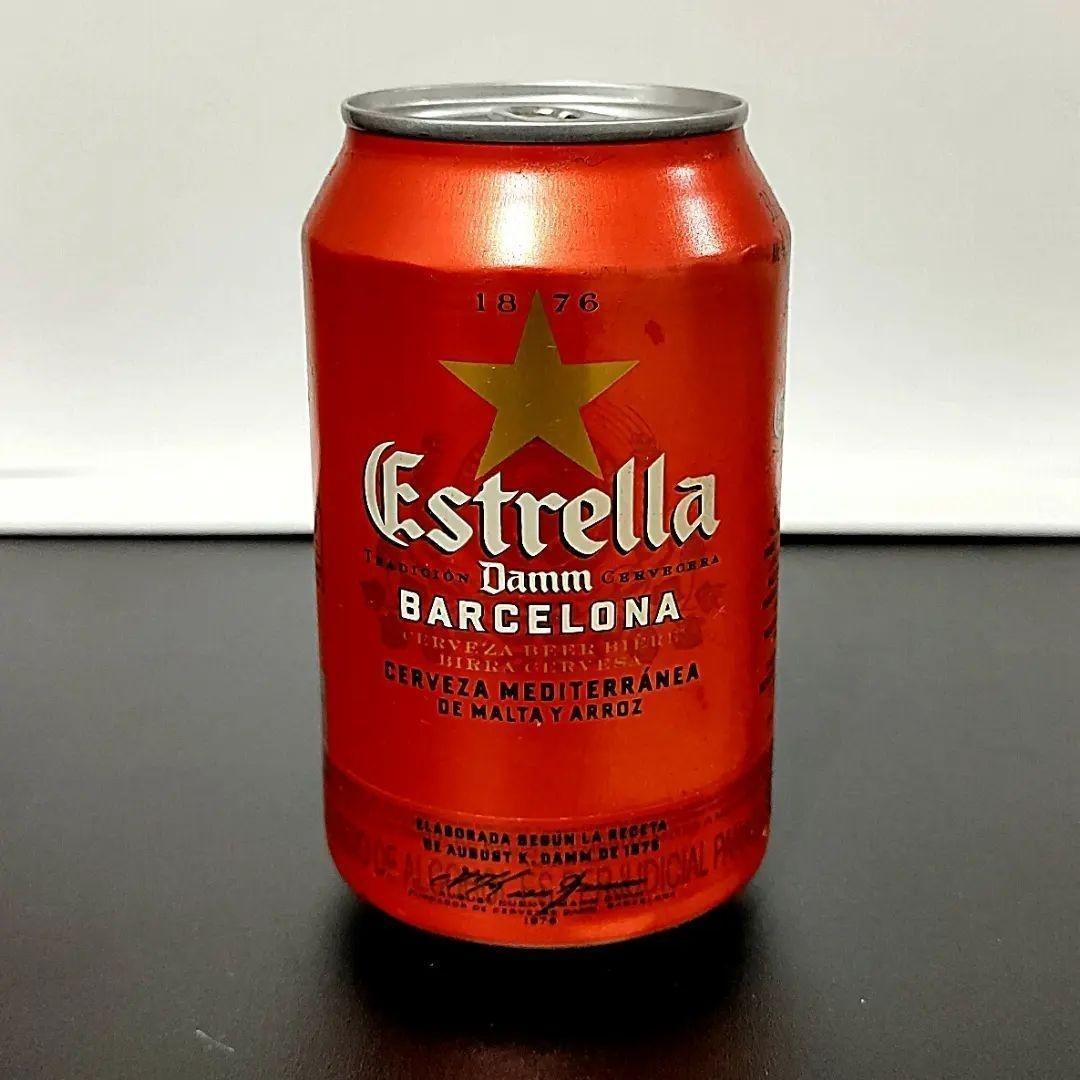tin can: (291, 68, 809, 971)
